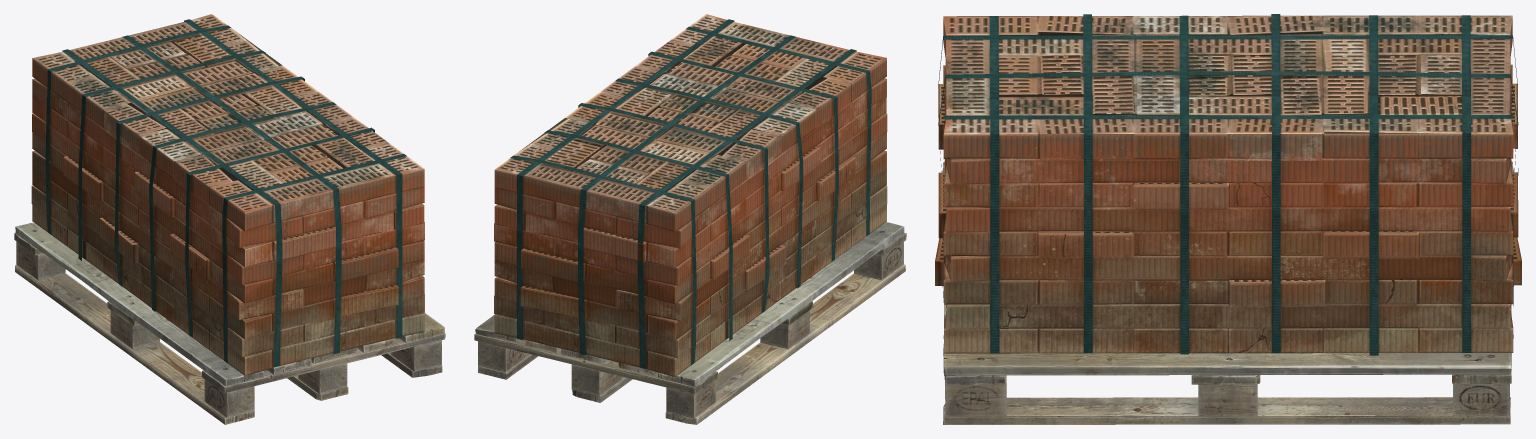
File: pallet-bricks.glb
3 views of the same model, side by side, from view 1: azimuth 30°, elevation 25°; view 2: azimuth 150°, elevation 25°; view 3: azimuth 270°, elevation 25° (orthographic). The views are drawn at different scales.
Parts seen in each view (by area): view 1: model_Material #26_0, pallet_Material #27_0; view 2: model_Material #26_0, pallet_Material #27_0; view 3: model_Material #26_0, pallet_Material #27_0.
Boxes of the visible parts, x1,y1,x2,y2 form: model_Material #26_0: (31, 14, 424, 375); pallet_Material #27_0: (14, 222, 445, 424); model_Material #26_0: (494, 14, 887, 376); pallet_Material #27_0: (474, 222, 906, 424); model_Material #26_0: (935, 14, 1521, 355); pallet_Material #27_0: (943, 304, 1511, 424).
Size of the model in its own units: 0.9144 by 0.8269 by 1.56.
Materials: 2 (2 with a texture image).
